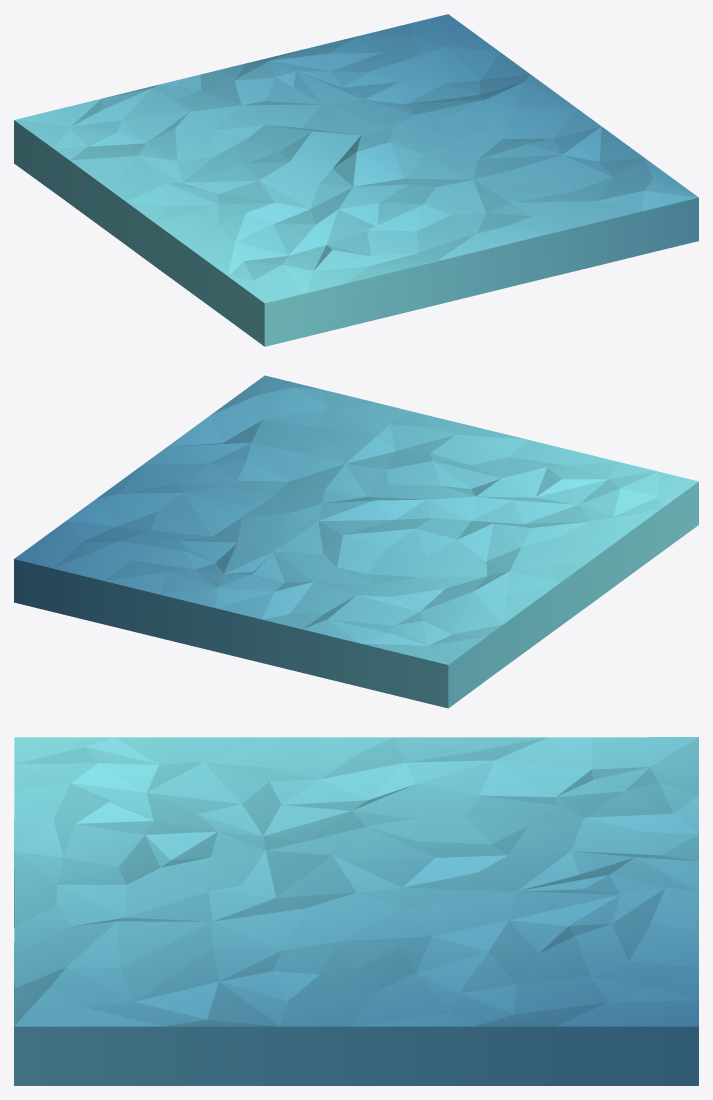
Rendered from water location japanes island.fbx.
3 renders of one model, top to bottom at view 1: azimuth 30°, elevation 25°; view 2: azimuth 150°, elevation 25°; view 3: azimuth 270°, elevation 25°, orthographic. The views are drawn at different scales.
Parts seen in each view (by area): view 1: water location japanes island; view 2: water location japanes island; view 3: water location japanes island.
Boxes of the visible parts, <box> form: water location japanes island: <box>14,14,698,346</box>; water location japanes island: <box>14,375,698,708</box>; water location japanes island: <box>14,737,698,1085</box>.
Bounding box in the file's own units: 4500 × 582 × 4500.
